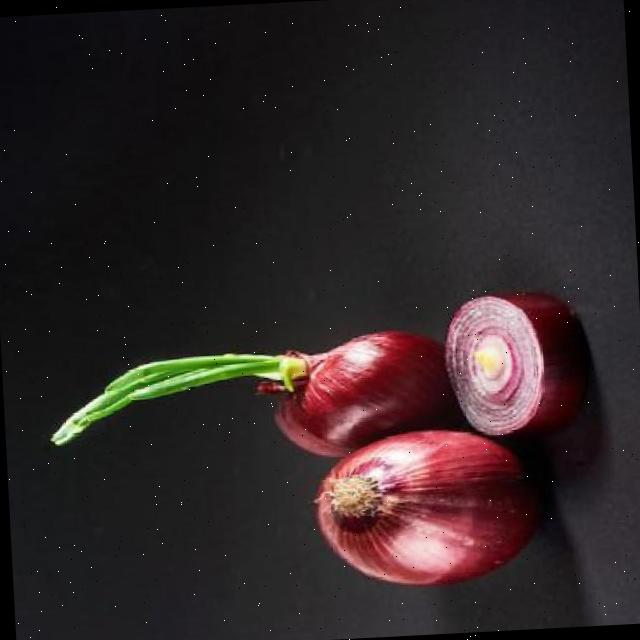Onion: (316, 429, 542, 585), (276, 330, 466, 456)
